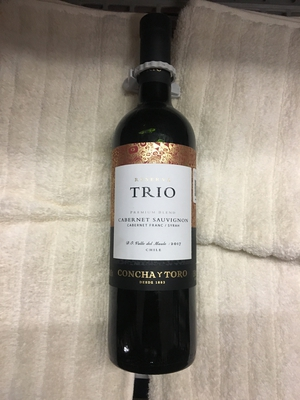trio cabernet sauvignon: (97, 18, 216, 374)
